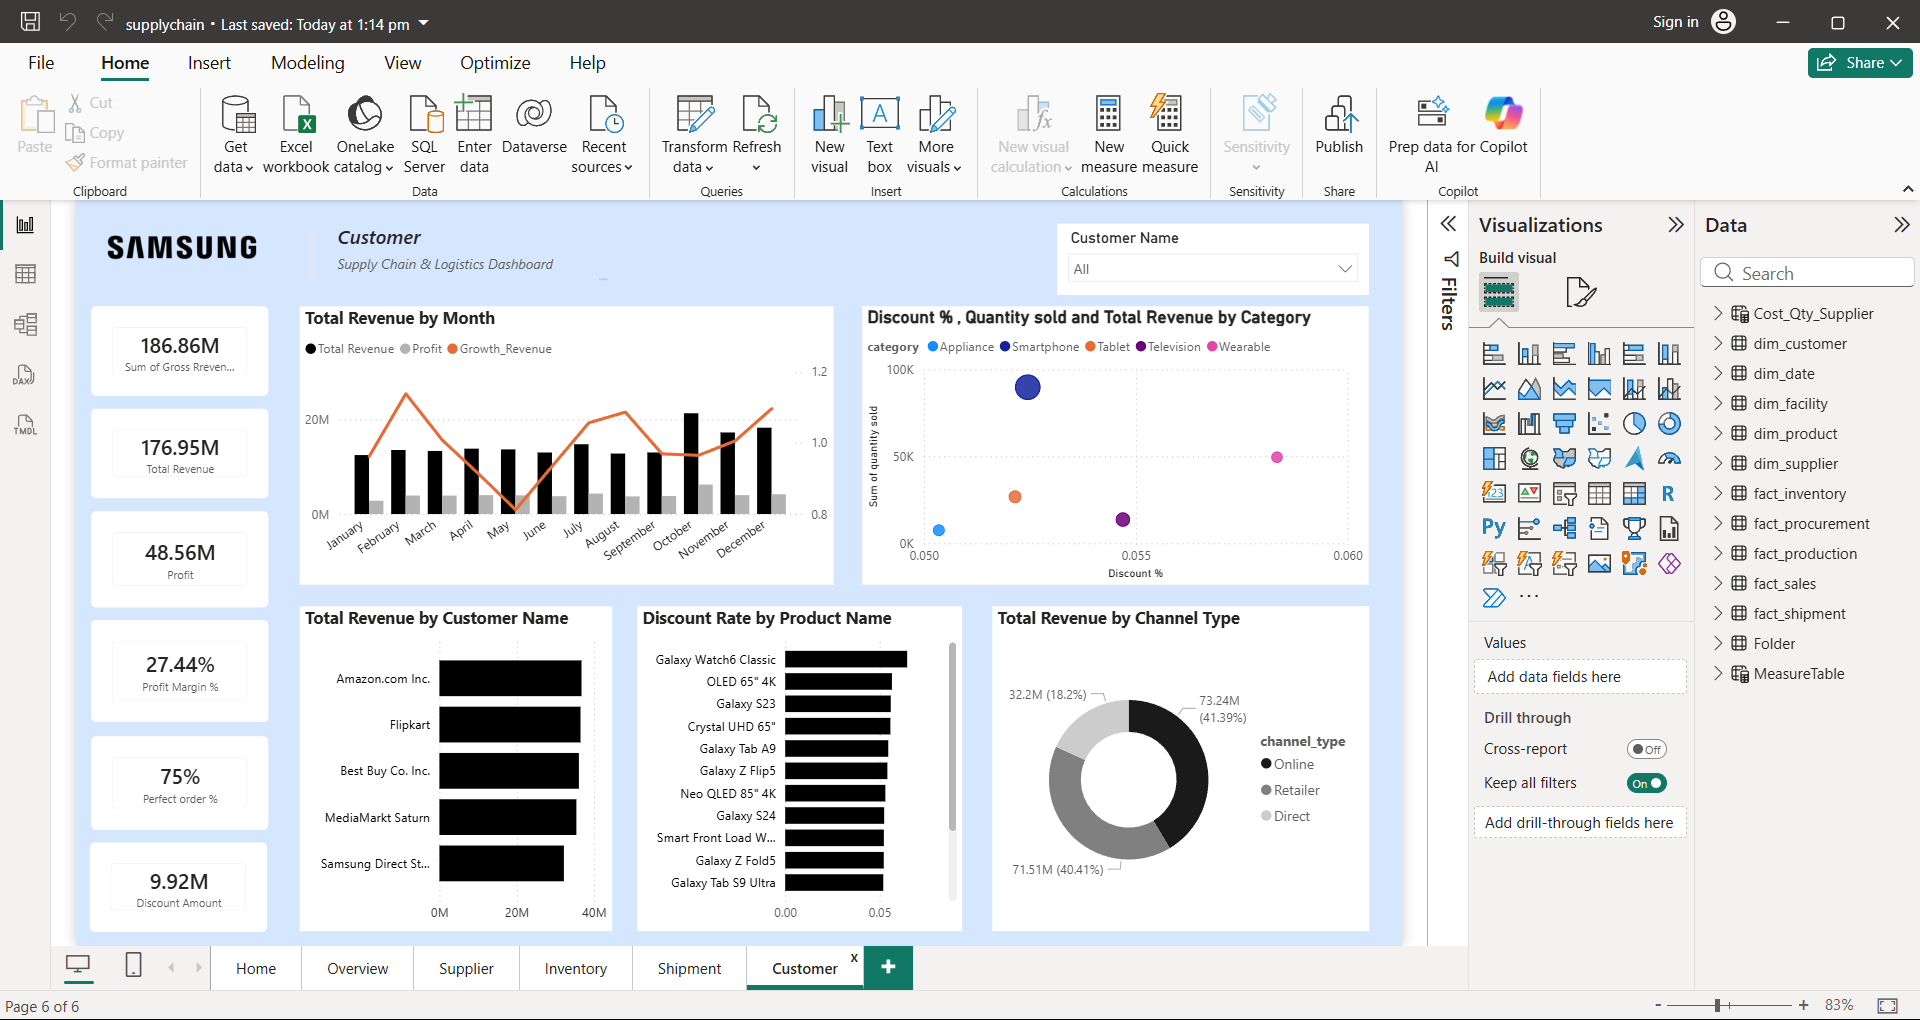

The dashboard page shown, as its layout file describes it:
{"tool":"powerbi","page":{"name":"Customer","canvas":[1280,720],"ordinal":5},"visuals":[{"type":"textbox","title":"Customer","box":[247.3,22.9,270.2,59.1],"z":0},{"type":"shape","box":[181,29,92.9,49.5],"z":1000},{"type":"image","box":[19.3,8.4,159.3,73.6],"z":2000},{"type":"cardVisual","fields":{"Data":["MeasureTable.Total_Revenue"]},"box":[14.5,201.5,171.2,86.2],"z":3000},{"type":"cardVisual","fields":{"Data":["MeasureTable.Profit"]},"box":[14.2,300.5,171.2,92.5],"z":4000},{"type":"cardVisual","fields":{"Data":["MeasureTable.Profit_Margin_%"]},"box":[14,405.8,171.2,98.8],"z":5000},{"type":"cardVisual","fields":{"Data":["MeasureTable.Perfect_order %"]},"box":[15,517.2,171.2,90],"z":6000},{"type":"cardVisual","fields":{"Data":["Sum(fact_sales.discount_amount)"]},"box":[13.8,620,171.2,86.2],"z":7000},{"type":"cardVisual","fields":{"Data":["Sum(fact_sales.gross_revenue)"]},"box":[14.8,102.5,171.2,86.2],"z":8000},{"type":"barChart","title":"Total Revenue by Customer Name","fields":{"Category":["dim_customer.customer_name"],"Y":["MeasureTable.Total Revenue"]},"box":[216.2,392.5,301.2,313.8],"z":9000},{"type":"donutChart","title":"Total Revenue by Channel Type","fields":{"Category":["dim_customer.channel_type"],"Y":["MeasureTable.Total Revenue"]},"box":[883.8,392.5,363.8,313.8],"z":10000},{"type":"lineClusteredColumnComboChart","title":"Total Revenue by Month","fields":{"Category":["dim_date.month_name"],"Y":["MeasureTable.Total Revenue","MeasureTable.Profit"],"Y2":["MeasureTable.Growth_Revenue"]},"box":[216.2,102.5,515,268.8],"z":11000},{"type":"scatterChart","title":"Discount % , Quantity sold and Total Revenue by Category","fields":{"X":["MeasureTable.Discount %"],"Y":["Sum(fact_sales.quantity_sold)"],"Series":["dim_product.category"],"Size":["MeasureTable.Total Revenue"]},"box":[758.8,102.5,488.8,268.8],"z":12000},{"type":"barChart","title":"Discount Rate by Product Name","fields":{"Category":["dim_product.product_name"],"Y":["MeasureTable.Discount %"]},"box":[541.2,392.5,313.8,313.8],"z":13000},{"type":"pageNavigator","box":[583.9,36.2,664.7,35],"z":13001}]}

Visuals, with their boxes on the page's 1280x720 design canvas (x1, y1, x2, y2). These are canvas units, not pixel positions in the 1920x1020 screenshot, which may show the page scaled, cropped or inside an application window:
"Customer" textbox: (x1=247, y1=23, x2=518, y2=82)
shape: (x1=181, y1=29, x2=274, y2=78)
image: (x1=19, y1=8, x2=179, y2=82)
cardVisual - MeasureTable.Total_Revenue: (x1=14, y1=202, x2=186, y2=288)
cardVisual - MeasureTable.Profit: (x1=14, y1=300, x2=185, y2=393)
cardVisual - MeasureTable.Profit_Margin_%: (x1=14, y1=406, x2=185, y2=505)
cardVisual - MeasureTable.Perfect_order %: (x1=15, y1=517, x2=186, y2=607)
cardVisual - Sum(fact_sales.discount_amount): (x1=14, y1=620, x2=185, y2=706)
cardVisual - Sum(fact_sales.gross_revenue): (x1=15, y1=102, x2=186, y2=189)
"Total Revenue by Customer Name" barChart: (x1=216, y1=392, x2=517, y2=706)
"Total Revenue by Channel Type" donutChart: (x1=884, y1=392, x2=1248, y2=706)
"Total Revenue by Month" lineClusteredColumnComboChart: (x1=216, y1=102, x2=731, y2=371)
"Discount % , Quantity sold and Total Revenue by Category" scatterChart: (x1=759, y1=102, x2=1248, y2=371)
"Discount Rate by Product Name" barChart: (x1=541, y1=392, x2=855, y2=706)
pageNavigator: (x1=584, y1=36, x2=1249, y2=71)
